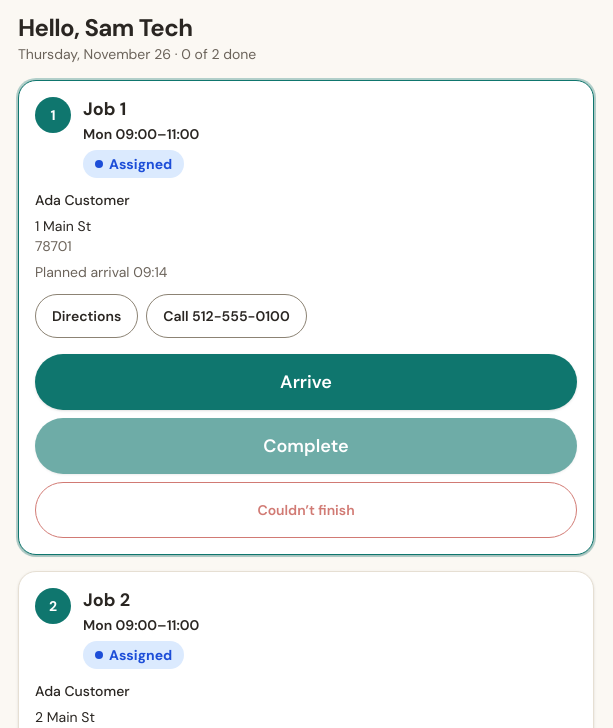
TechnicianHome › a refused second arrival shows the message and reloads the truth
Step 1. Click the button "Arrive" → (306, 382), box [35, 354, 577, 410]
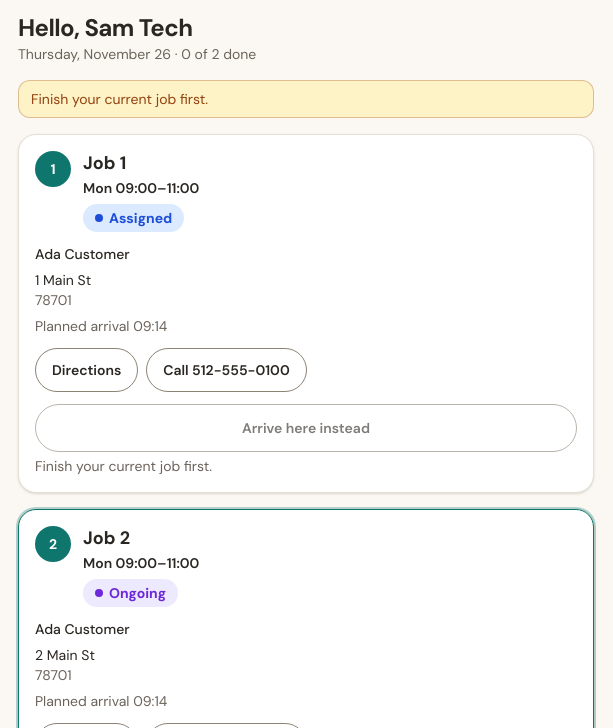
Result: the message "Finish your current job first." is shown at [18, 80, 594, 118]
